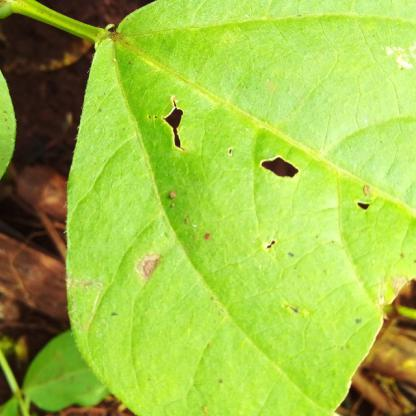Beans_Angular_LeafSpot: (67, 0, 416, 415)
